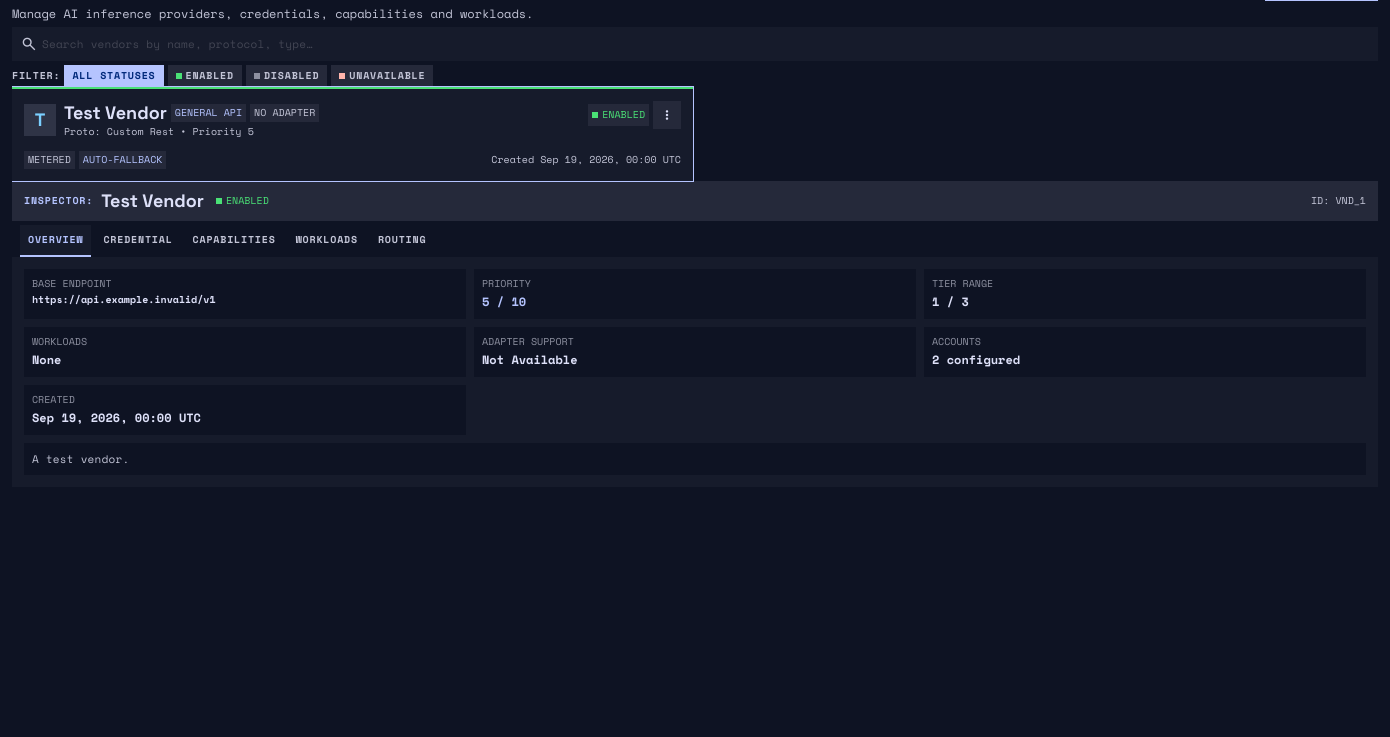
Test case: Vendors page › switching the selected account updates which credential is displayed
Expected: the text "Test Vendor" next to "General Api" is shown, [64,101,167,124]
What coordinates should you click on to do the following:
click the button "Credential"
I would click on:
 (138, 241)
Its box is [95,225,181,257].
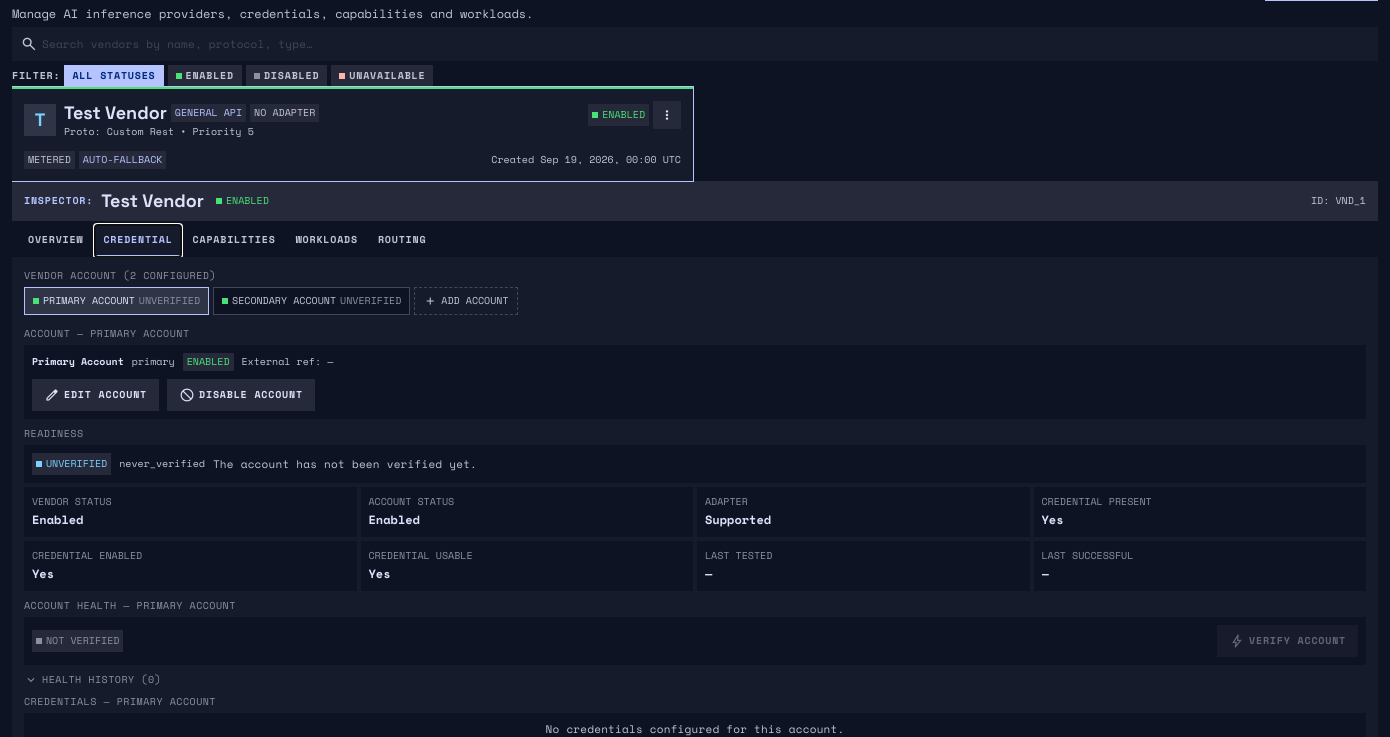
What coordinates should you click on to do the following:
click the text "Secondary Account"
I would click on:
 (284, 301)
Its box is [232,294,336,308].
(page scrolled)
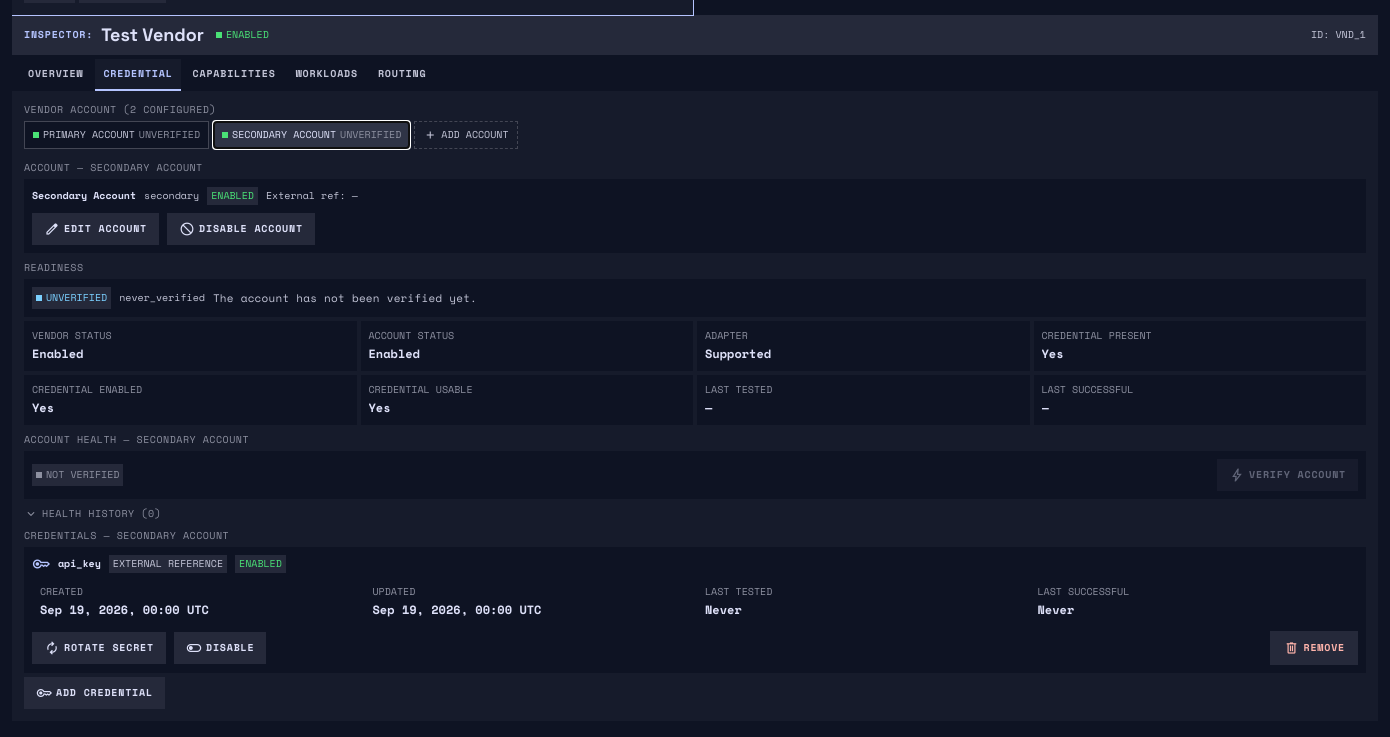
Now the text "External Reference" is shown, box [109,555,227,573]
